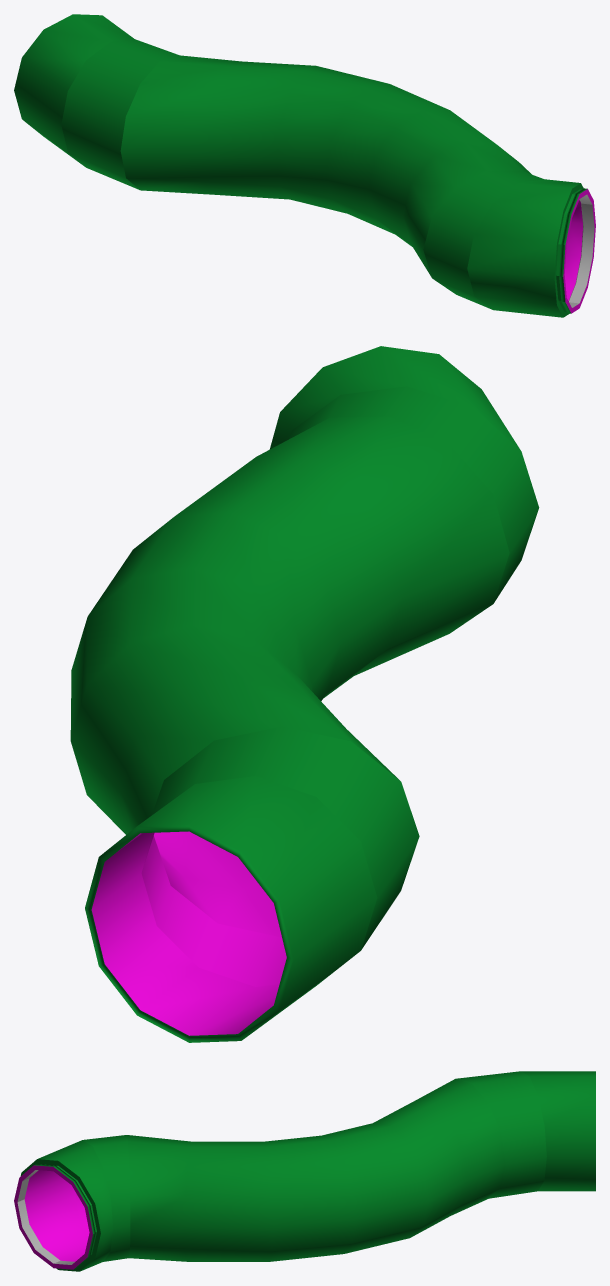
Rendered from tunnel_curved_4_uv_low_double.fbx.
3 renders of one model, top to bottom at view 1: azimuth 30°, elevation 25°; view 2: azimuth 150°, elevation 25°; view 3: azimuth 270°, elevation 25°, orthographic. The views are drawn at different scales.
Parts seen in each view (by area): view 1: tunnel_curved_7_outer1; view 2: tunnel_curved_7_outer1; view 3: tunnel_curved_7_outer1.
Part boxes in pixels (x1,y1,x2,y2): tunnel_curved_7_outer1: (14,14,595,317); tunnel_curved_7_outer1: (70,346,539,1042); tunnel_curved_7_outer1: (14,1071,595,1271).
Bounding box in the file's own units: 8096 × 3213 × 15484.
